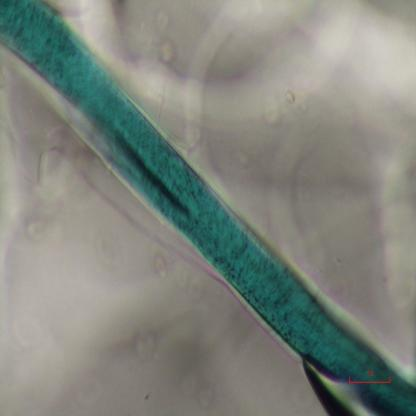Microfibre: (0, 1, 416, 412)
